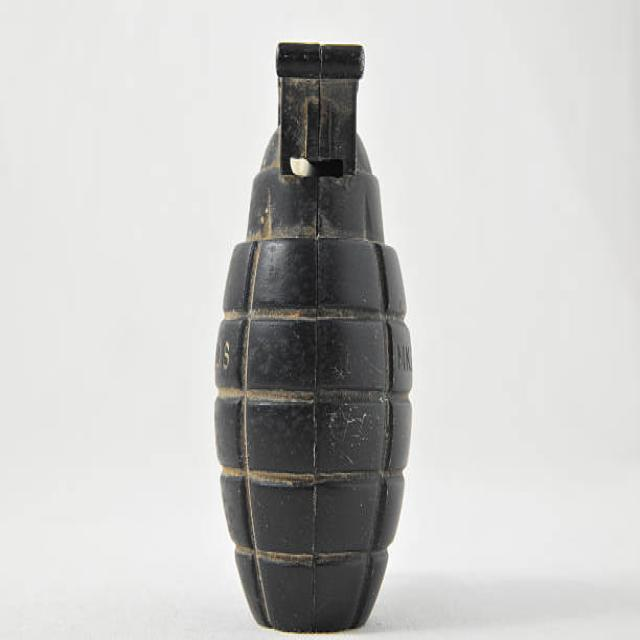grenade: (210, 33, 427, 640)
